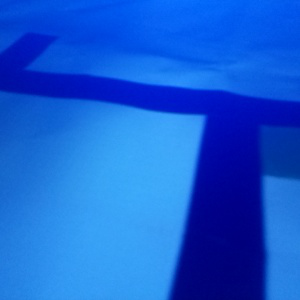bottom_right: (210, 102, 300, 179)
